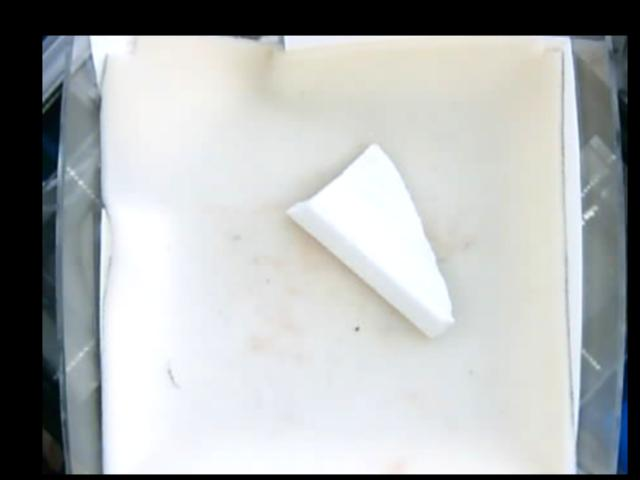China: (286, 140, 452, 342)
